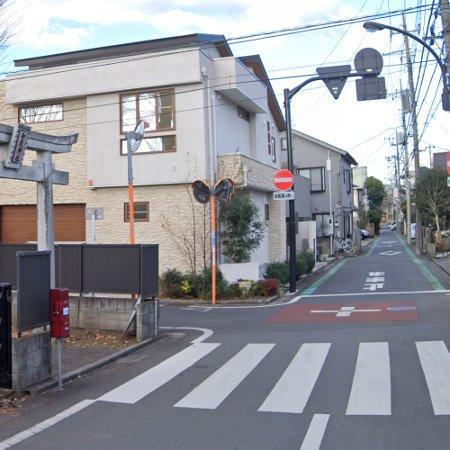crosswalks: (94, 338, 450, 418)
